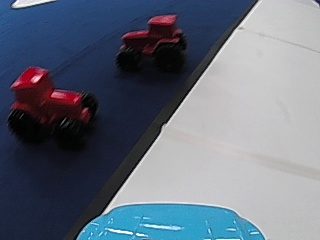tractor: (3, 63, 98, 147), (114, 12, 188, 73)
